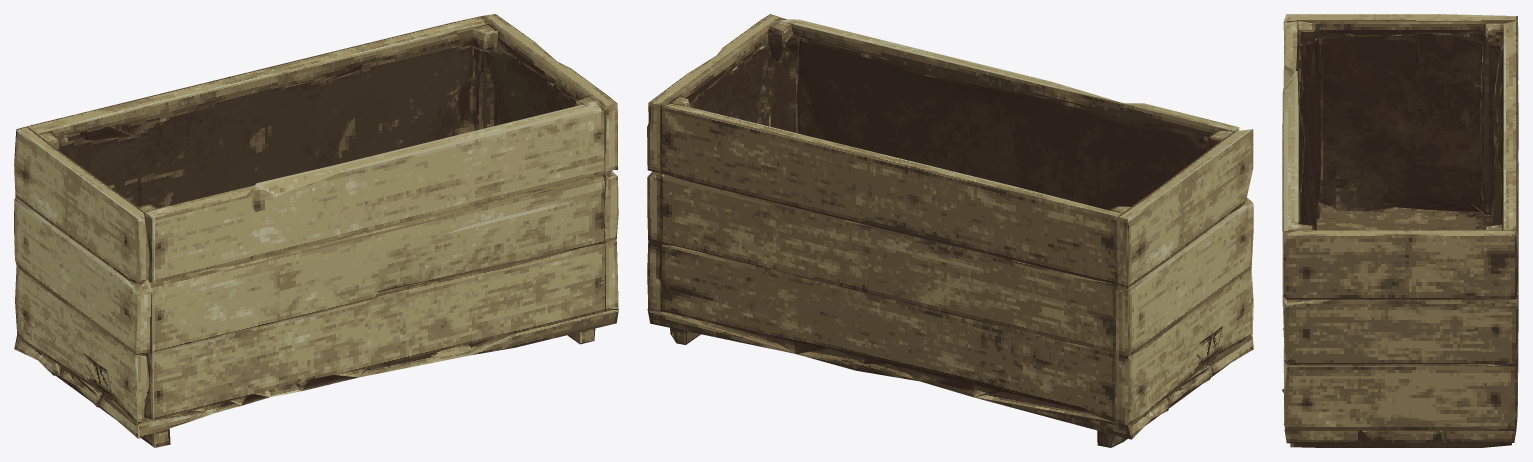
File: planter_box_01.glb
3 views of the same model, side by side, from view 1: azimuth 30°, elevation 25°; view 2: azimuth 150°, elevation 25°; view 3: azimuth 270°, elevation 25° (orthographic). The views are drawn at different scales.
Parts seen in each view (by area): view 1: mesh; view 2: mesh; view 3: mesh.
Boxes of the visible parts, <box> form: mesh: <box>14,14,618,447</box>; mesh: <box>647,14,1253,447</box>; mesh: <box>1282,14,1518,447</box>.
Bounding box in the file's own units: 51.2 × 24 × 23.07.
Materials: 1 (1 with a texture image).
